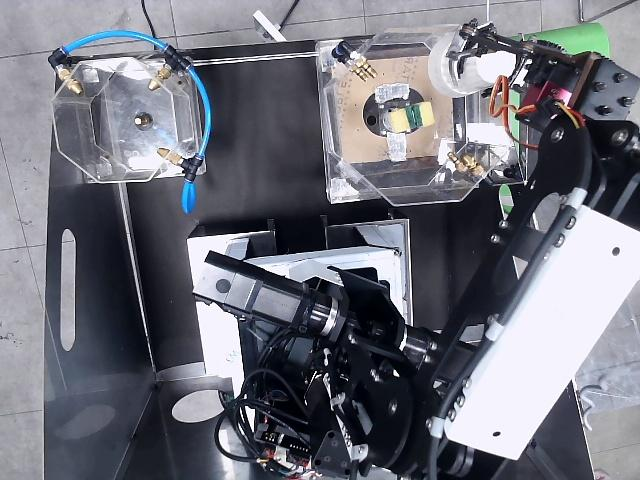cup: (428, 31, 514, 97)
